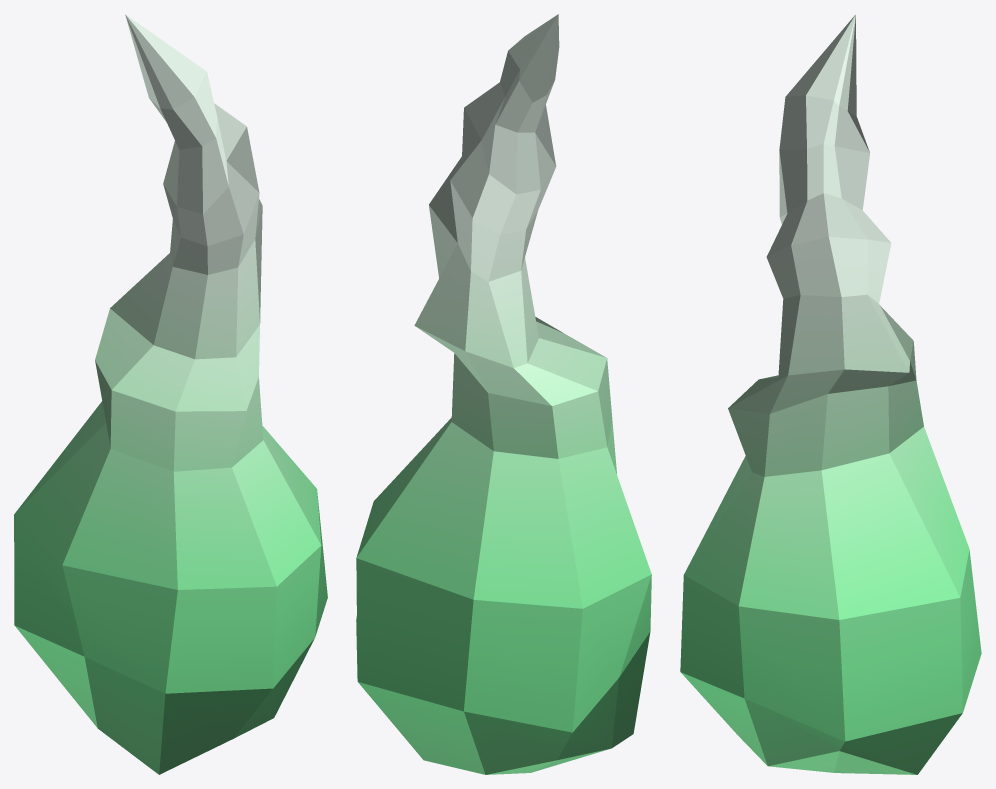
File: Soul Fire.fbx
3 renders of one model, left to right at view 1: azimuth 30°, elevation 25°; view 2: azimuth 150°, elevation 25°; view 3: azimuth 270°, elevation 25°, orthographic. The views are drawn at different scales.
Visible parts, largest first — view 1: Sphere.001; view 2: Sphere.001; view 3: Sphere.001.
Boxes of the visible parts, x1,y1,x2,y2 form: Sphere.001: [14, 14, 327, 774]; Sphere.001: [356, 14, 651, 774]; Sphere.001: [680, 14, 981, 774].
Bounding box in the file's own units: 189 × 487 × 179.
